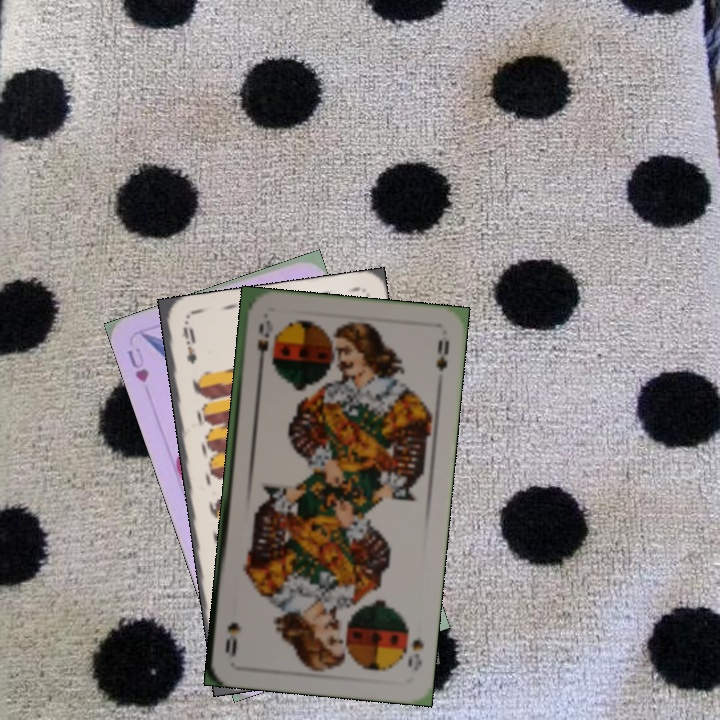E9: (178, 323, 200, 366)
HU: (123, 343, 152, 385)
SO: (253, 316, 273, 372), (404, 634, 426, 673)
